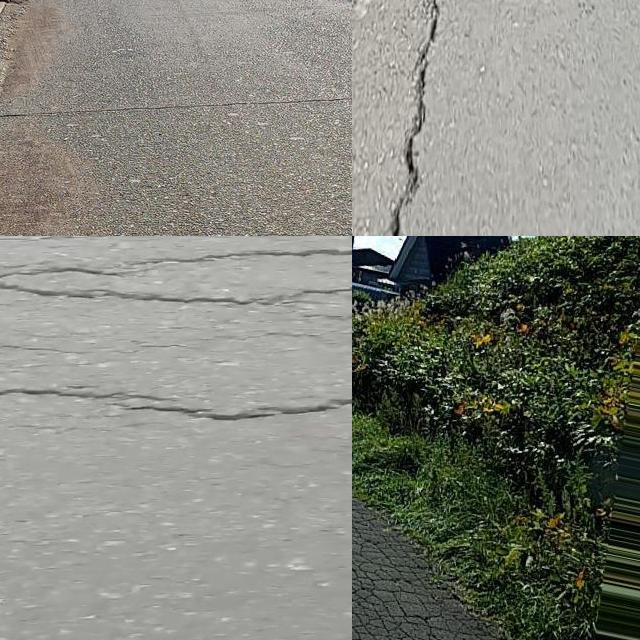Melintang: (0, 373, 352, 439), (0, 83, 352, 141), (0, 268, 352, 319)
Memanjang: (358, 0, 459, 236)
